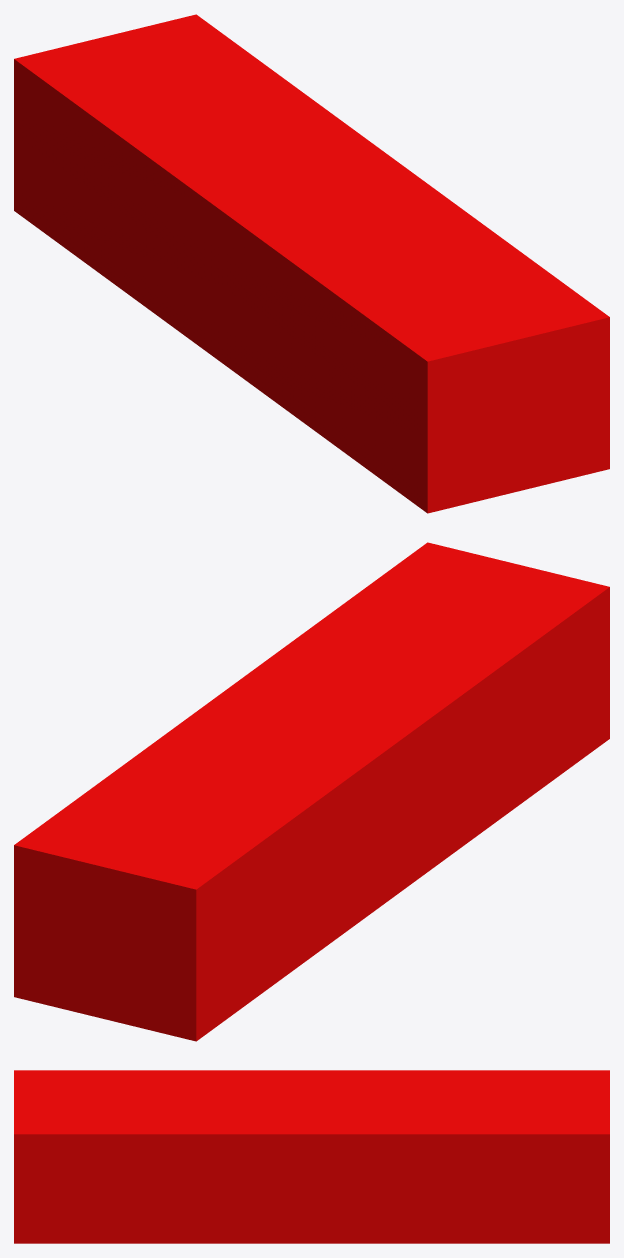
The model's file is arm_r_4mc_col.dae.
3 renders of one model, top to bottom at view 1: azimuth 30°, elevation 25°; view 2: azimuth 150°, elevation 25°; view 3: azimuth 270°, elevation 25°, orthographic. The views are drawn at different scales.
Visible parts, largest first — view 1: node0; view 2: node0; view 3: node0.
Part boxes in pixels (x1,y1,x2,y2): node0: (14,14,609,513); node0: (14,542,609,1041); node0: (14,1070,609,1243).
Bounding box in the file's own units: 0.0154 × 0.0123 × 0.0605.
